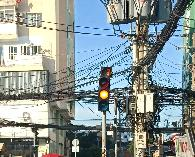yellow_light: (98, 77, 110, 111)
